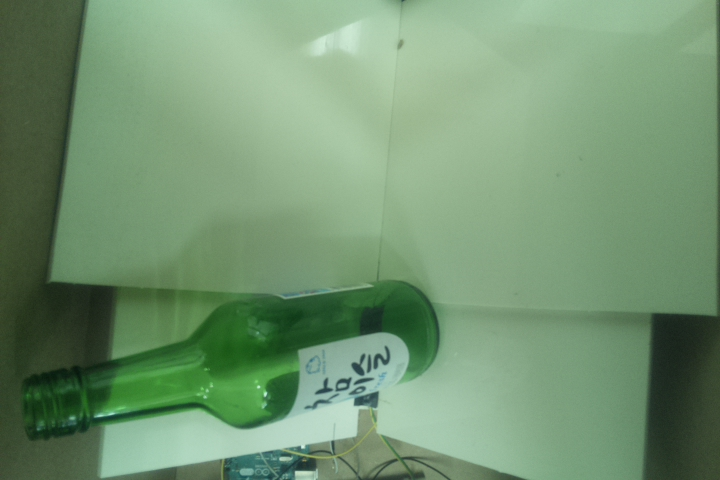soju: (18, 275, 441, 445)
